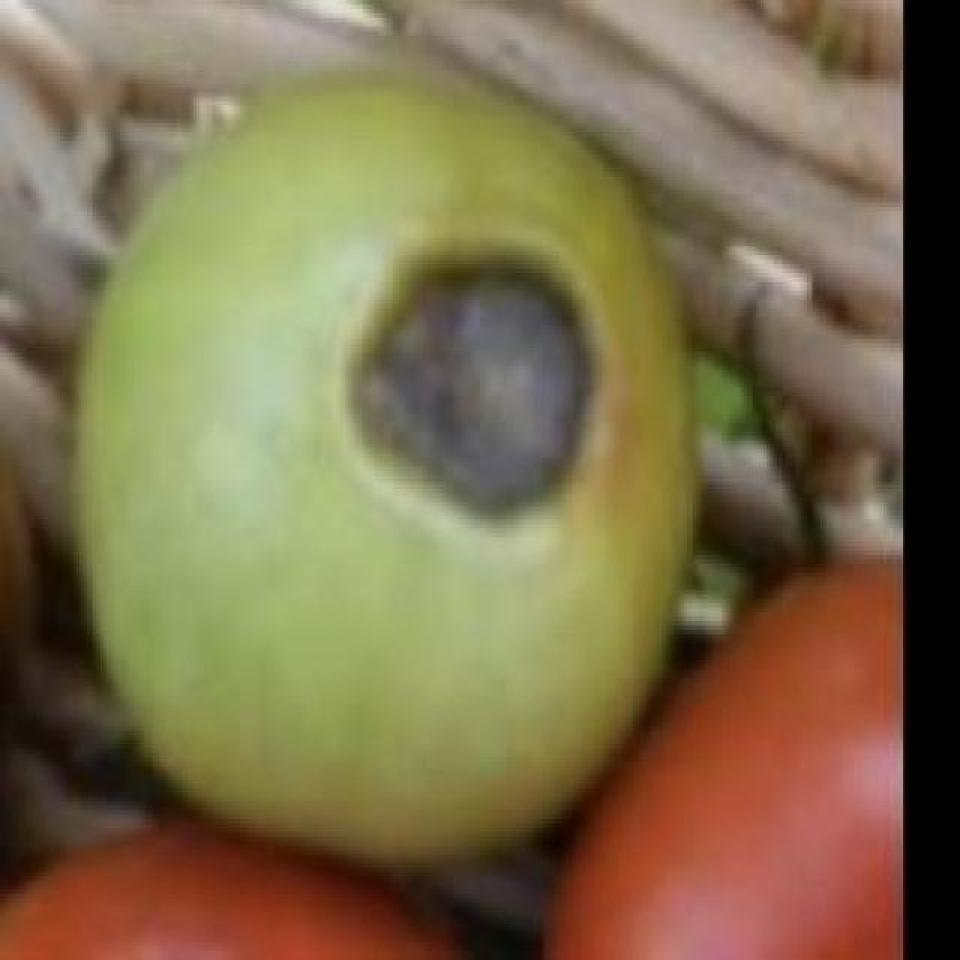Blossom_end_rot: (326, 222, 610, 579)
